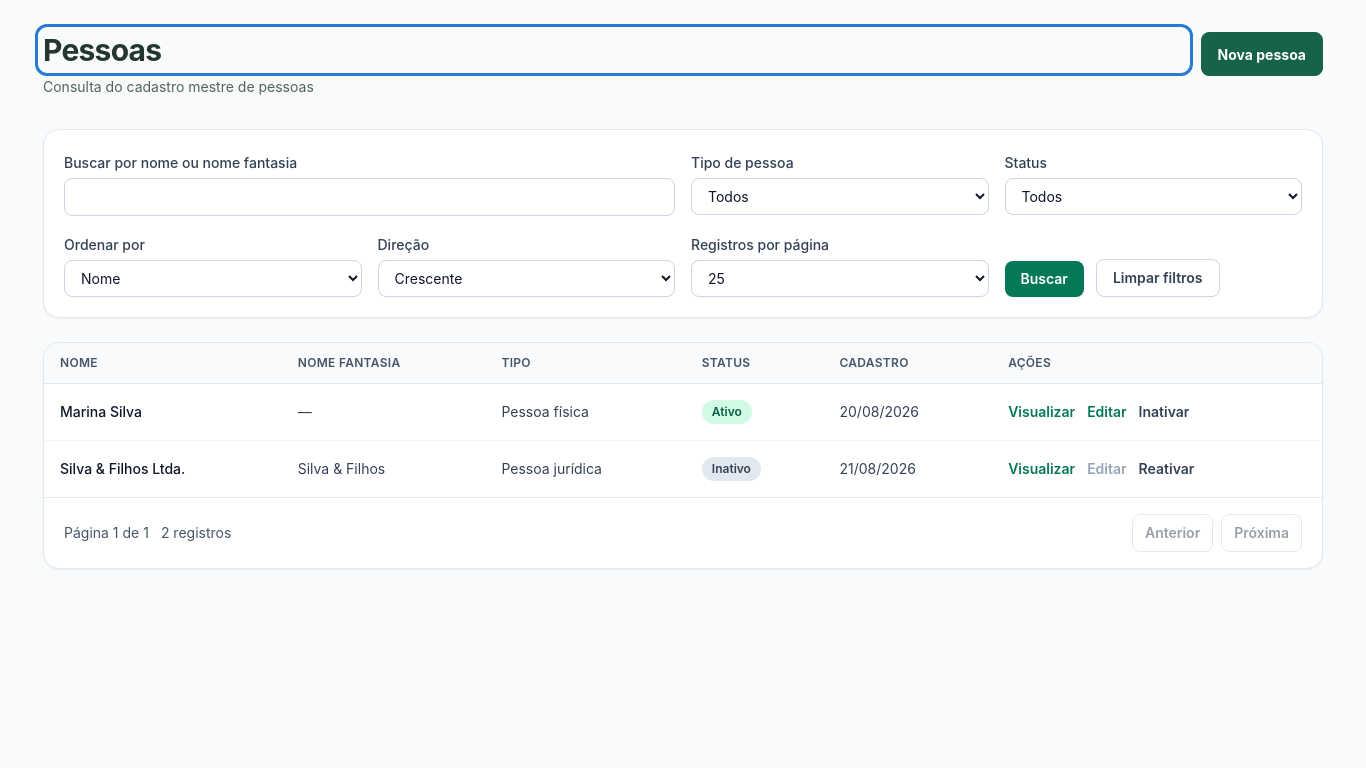
Test: PeopleListPage › mantém a tabela e mostra erro quando a alteração de status falha
The width and height of the screenshot is (1366, 768).
Check: the text "Marina Silva" is shown, box [44,384,282,440]
What coordinates should you click on to do the following:
click the button "Inativar"
I would click on:
 (1164, 412)
Its box is [1139,402,1189,422].
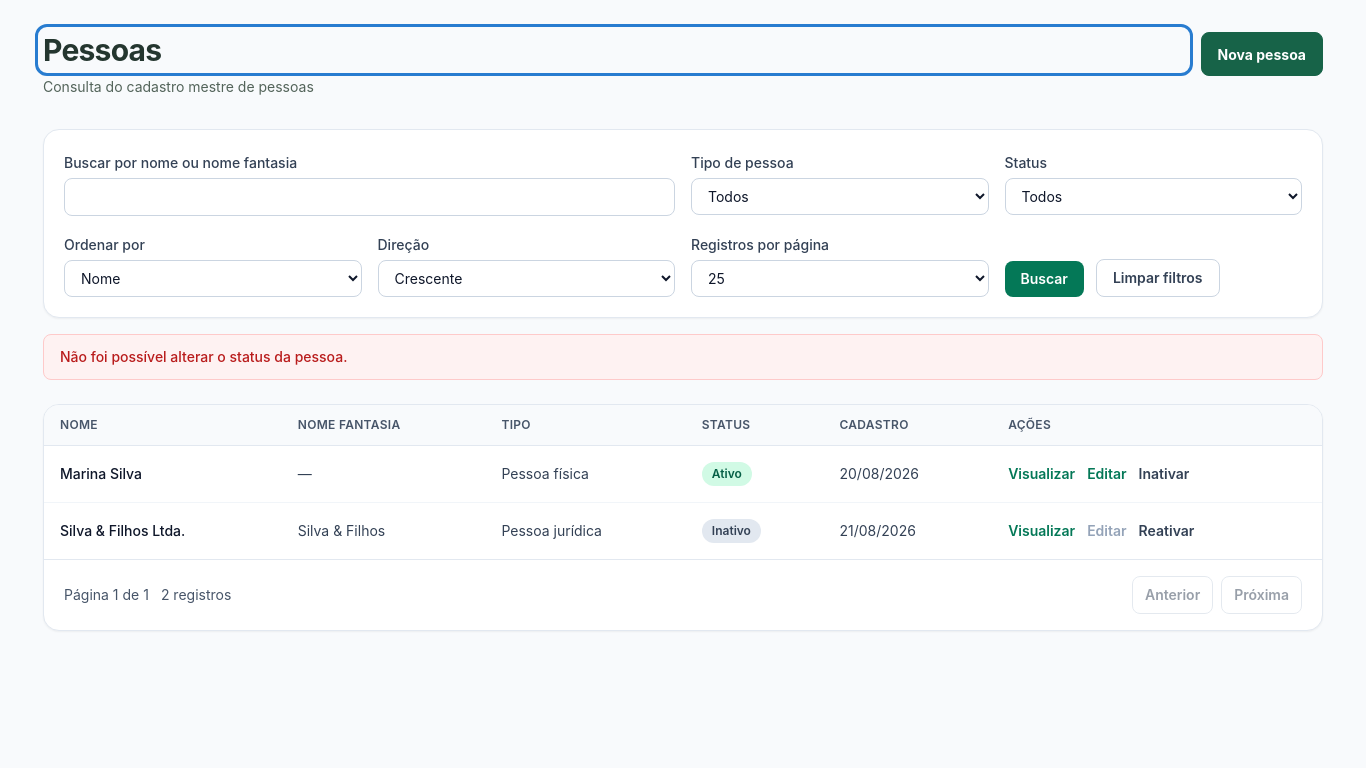
Check: the table is shown, box [44,405,1322,559]
Check: the message reads "Não foi possível alterar o status da pessoa.", box [60,348,347,365]
